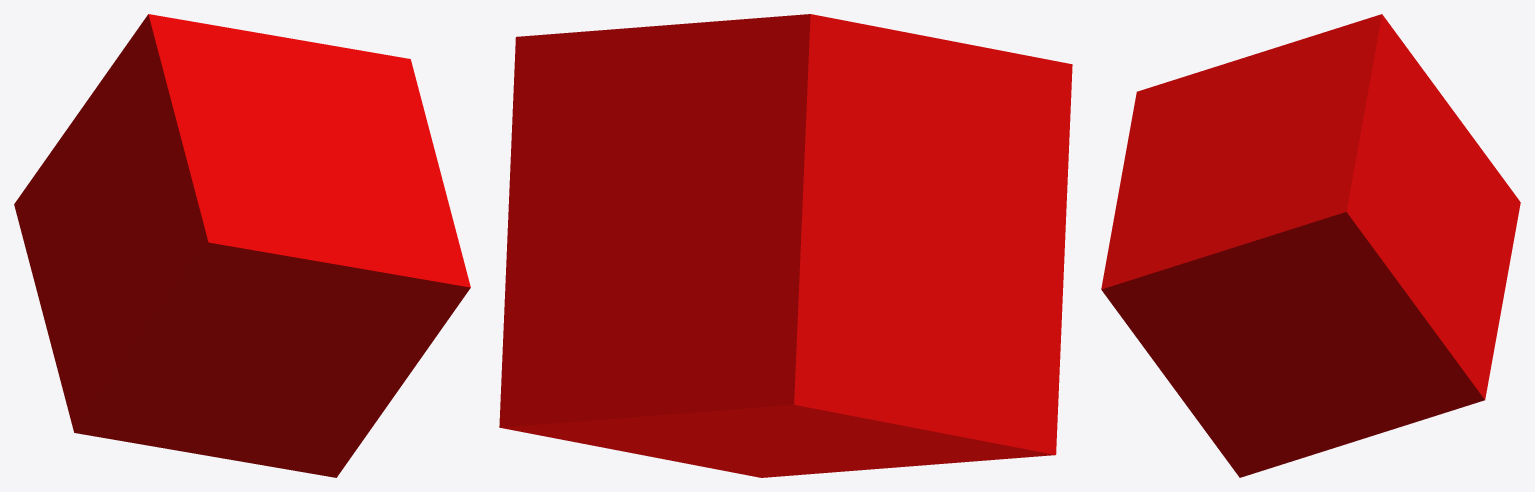
The picture shows the model from 3 angles, left to right: view 1: azimuth 30°, elevation 25°; view 2: azimuth 150°, elevation 25°; view 3: azimuth 270°, elevation 25°; orthographic projection. The views are drawn at different scales.
Visible parts, largest first — view 1: Cube; view 2: Cube; view 3: Cube.
Boxes of the visible parts, box(x1,y1,x2,y2) form: Cube: box(14, 14, 470, 477); Cube: box(499, 14, 1072, 477); Cube: box(1101, 14, 1520, 477).
Size of the model in its own units: 0.5601 by 0.5761 by 0.6241.
